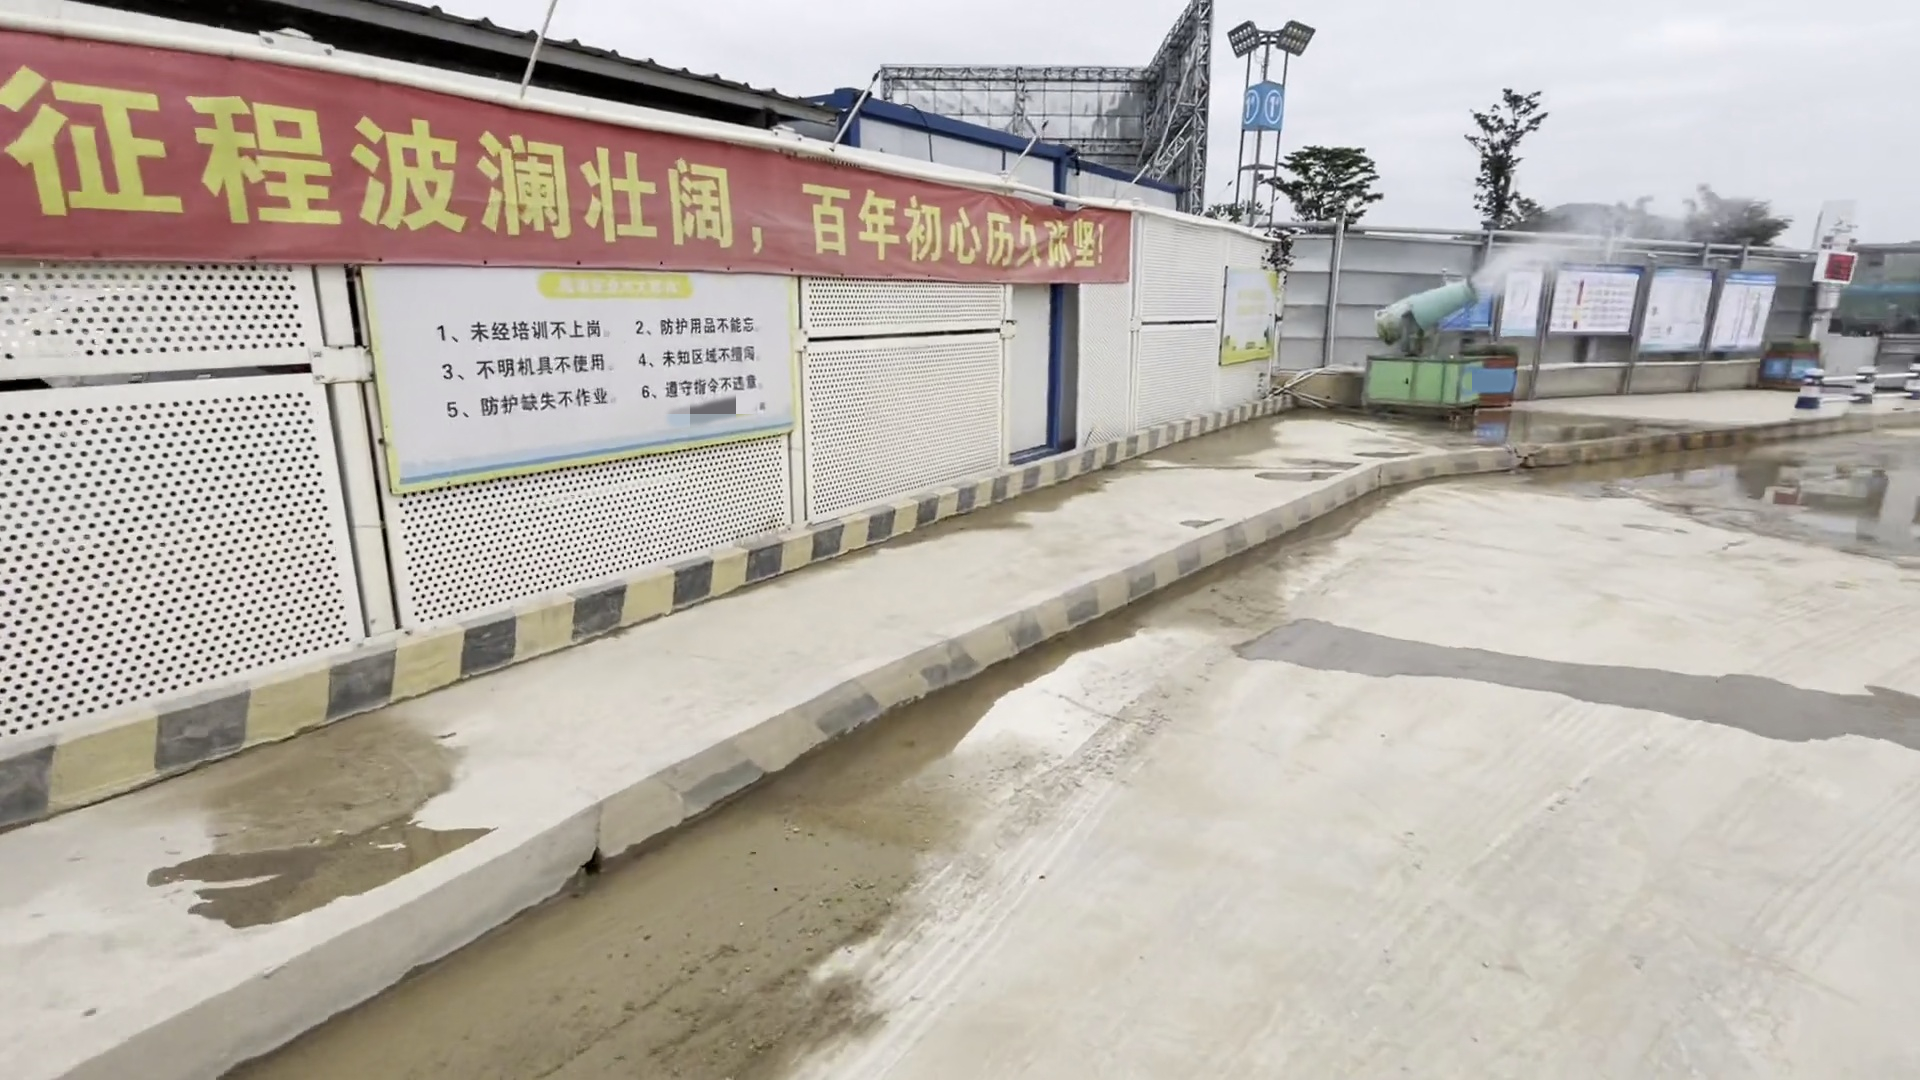slogan: (7, 41, 1121, 276), (356, 257, 791, 431)
